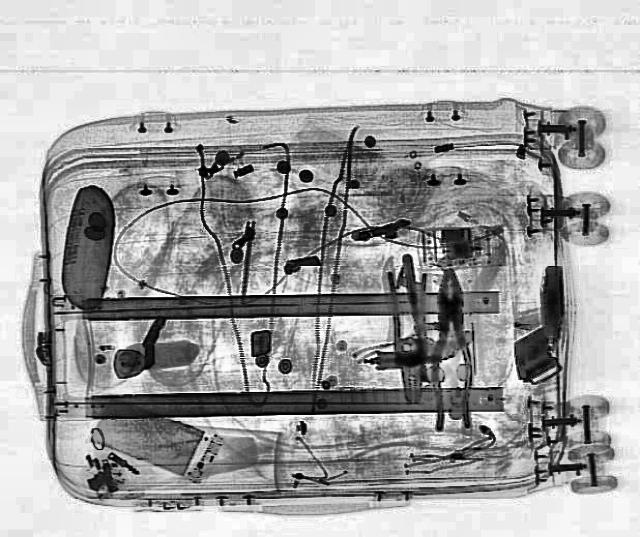Pliers: (424, 268, 476, 432), (384, 269, 430, 405)
